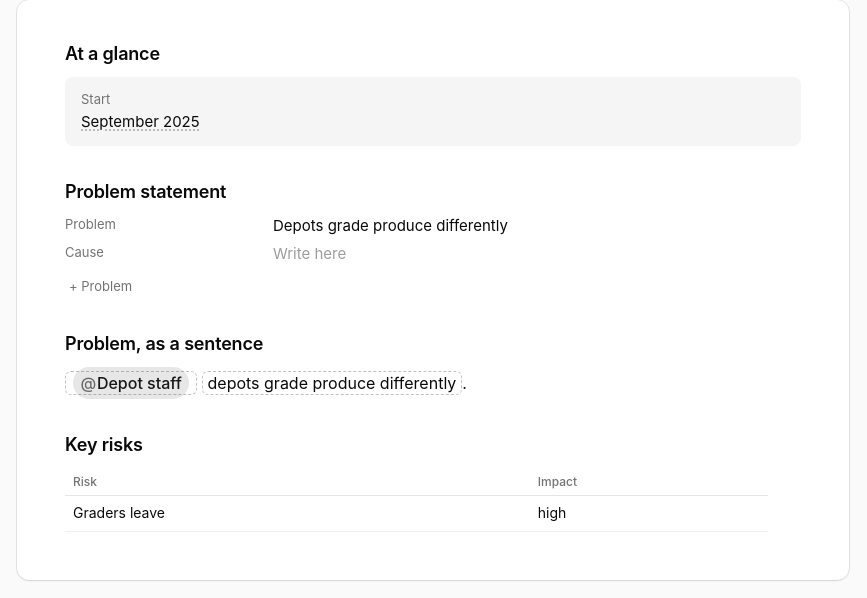
Test: the charter as a document › opens what a worked-out value comes from, in place
Click the button "September 2025" at {"x": 140, "y": 121}, box [81,112,200,131]
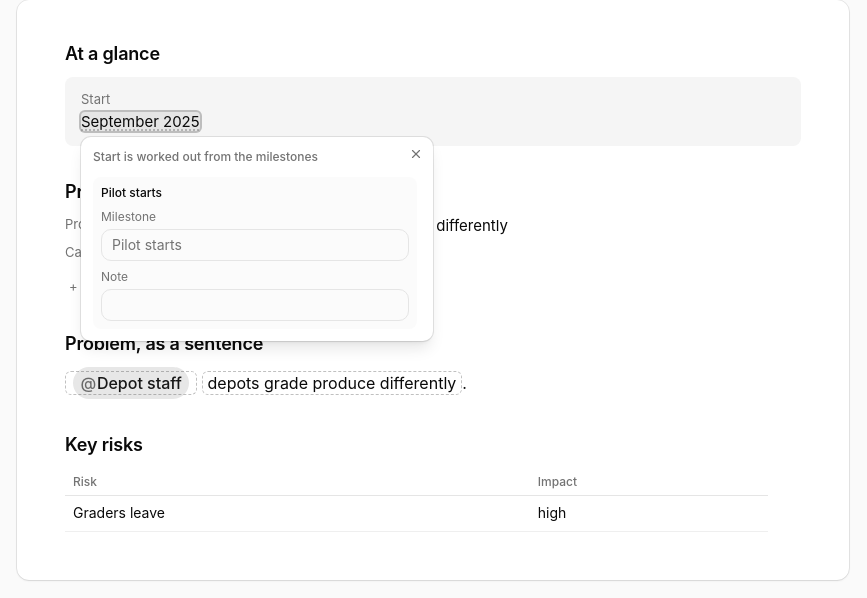
Replace the text in the field labelled "Milestone" with "Pilot begins" at {"x": 255, "y": 245}, box [101,229,409,261]
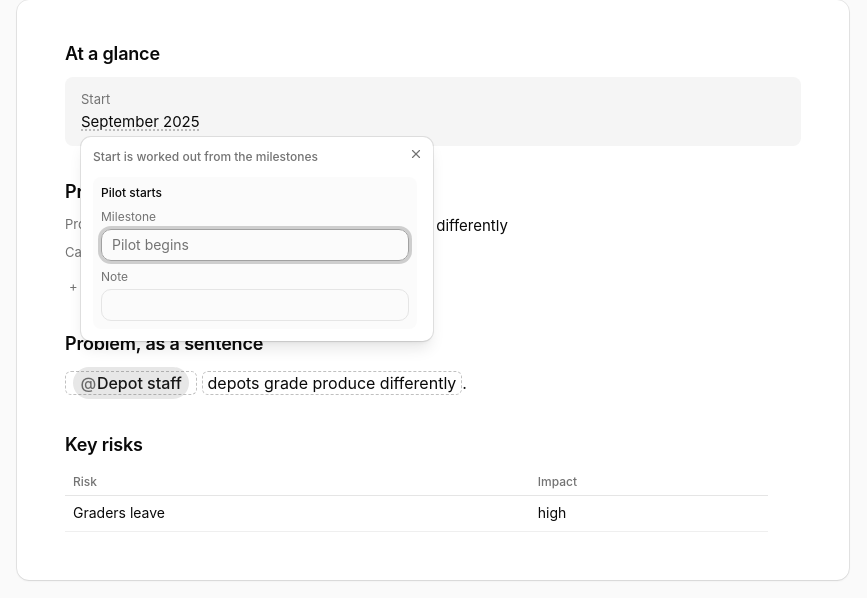
Leave the field labelled "Milestone", box [101,229,409,261]
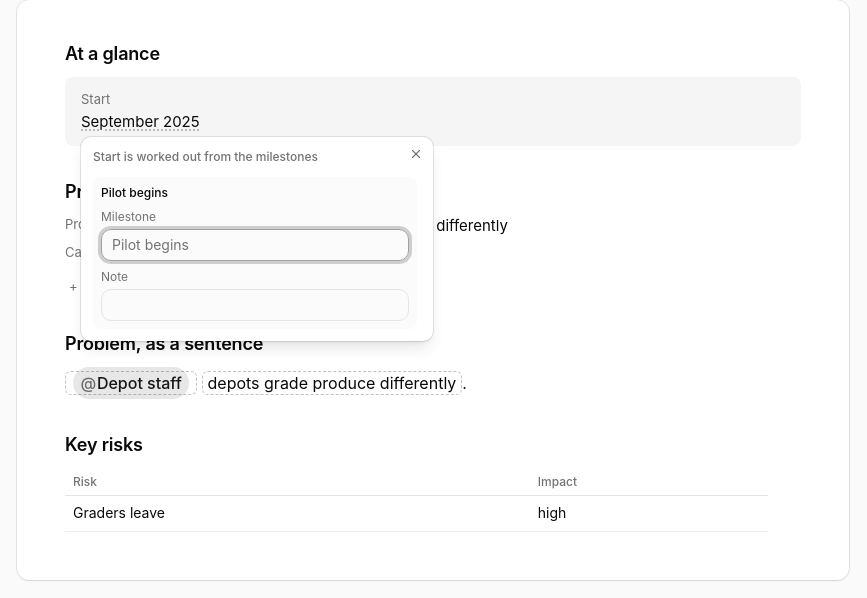
Check: the text "Pilot begins" is shown, box [101,185,168,200]
